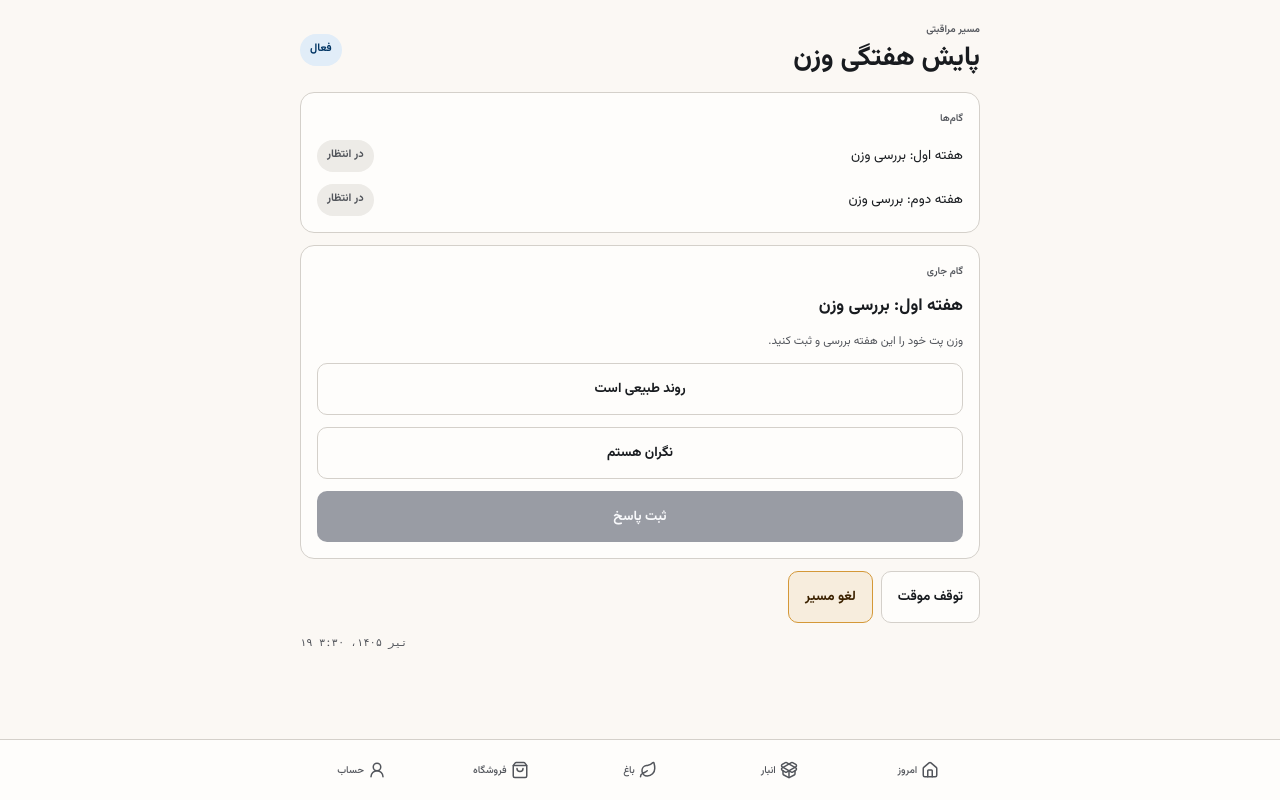
JourneyActive › shows a distinct error banner and stays on the same step when the check-in is rejected
Check: the heading "هفته اول: بررسی وزن" is shown, box [819,292,963,318]
Click the button "روند طبیعی است": (640, 389) [317,363,963,415]
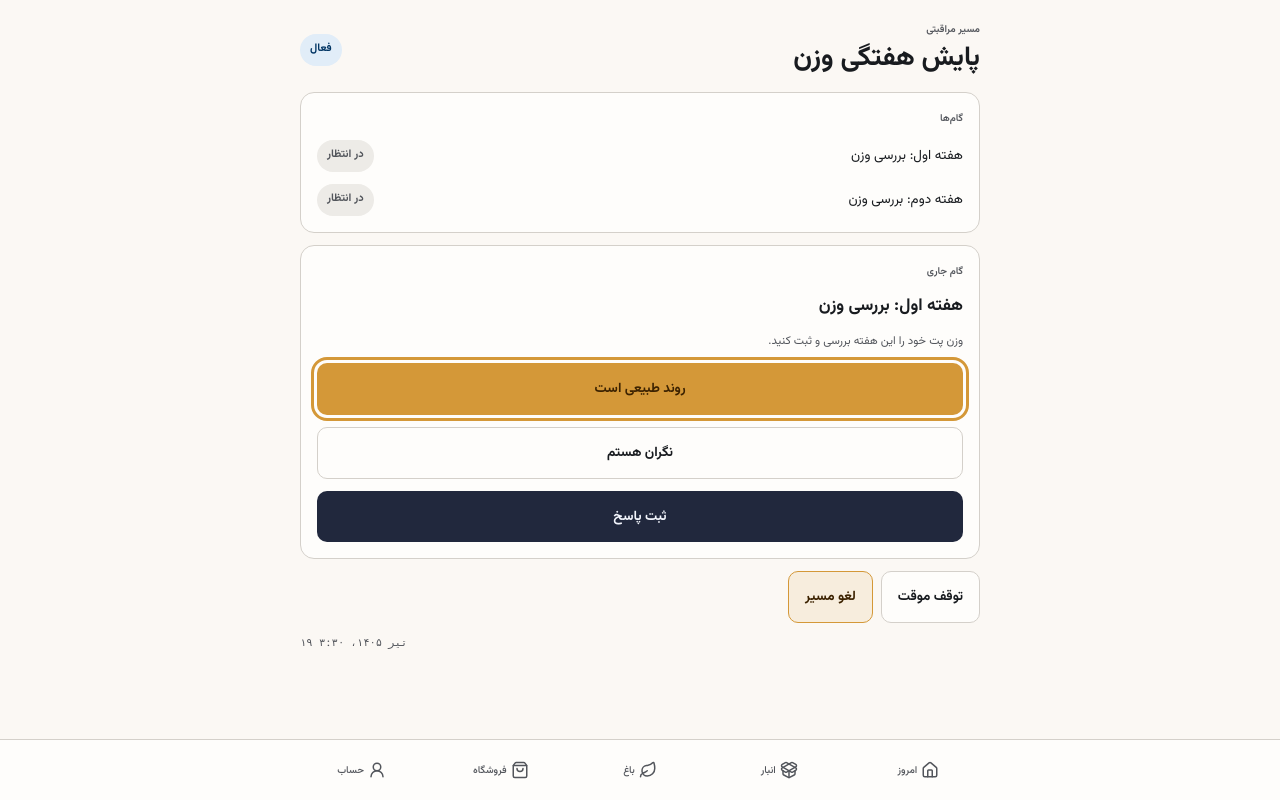
Click the button "ثبت پاسخ": (640, 516) [317,490,963,542]
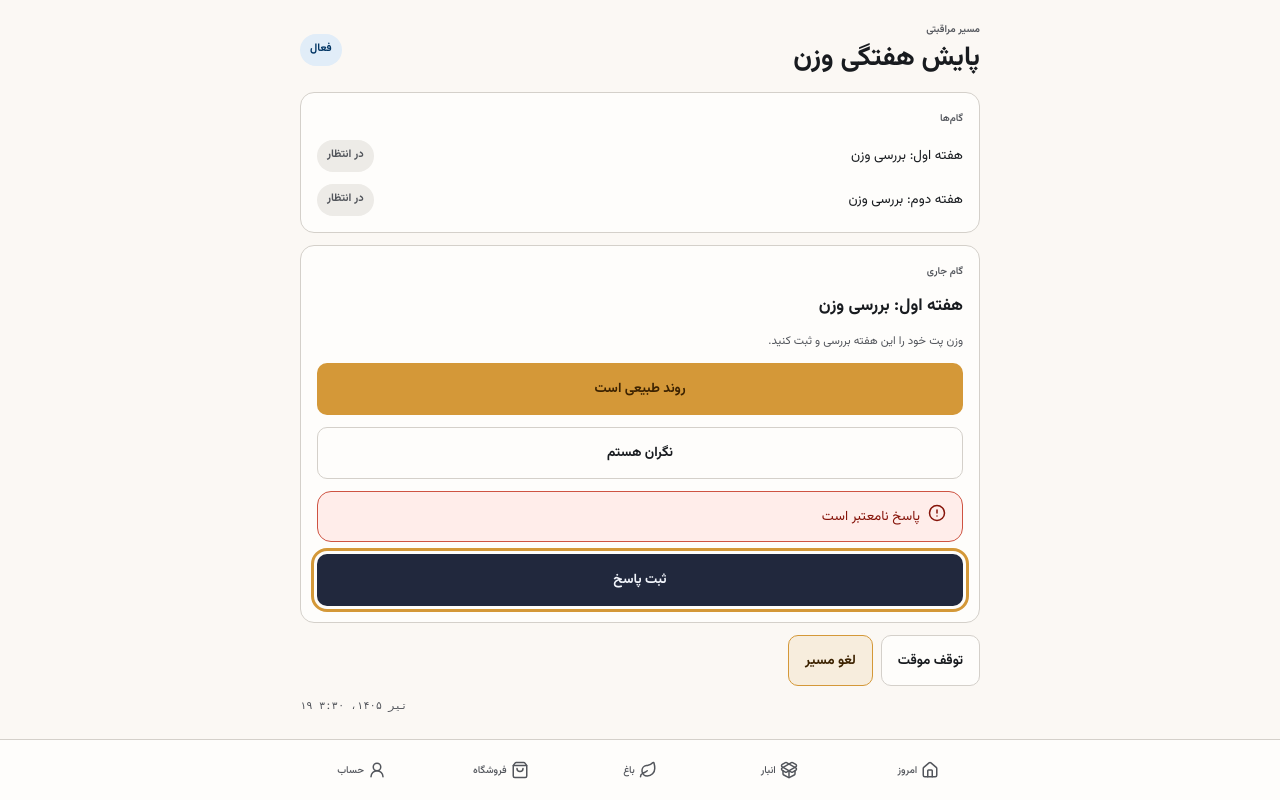
Check: the heading "هفته اول: بررسی وزن" is shown, box [819,292,963,318]
Check: the text "پاسخ نامعتبر است" is shown, box [822,504,920,529]
